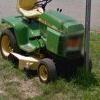Tractor: (5, 6, 88, 84)
